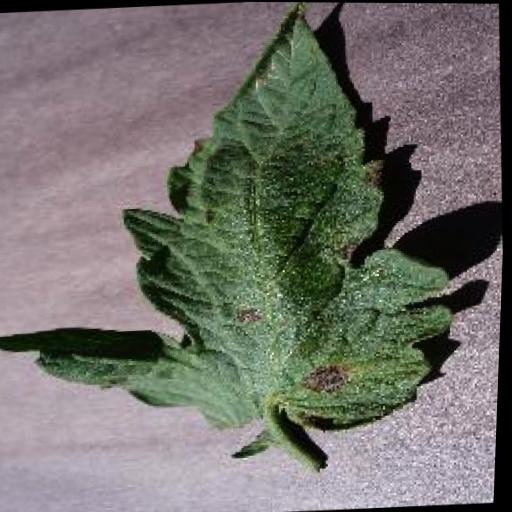Early Blight: (18, 0, 467, 443)
